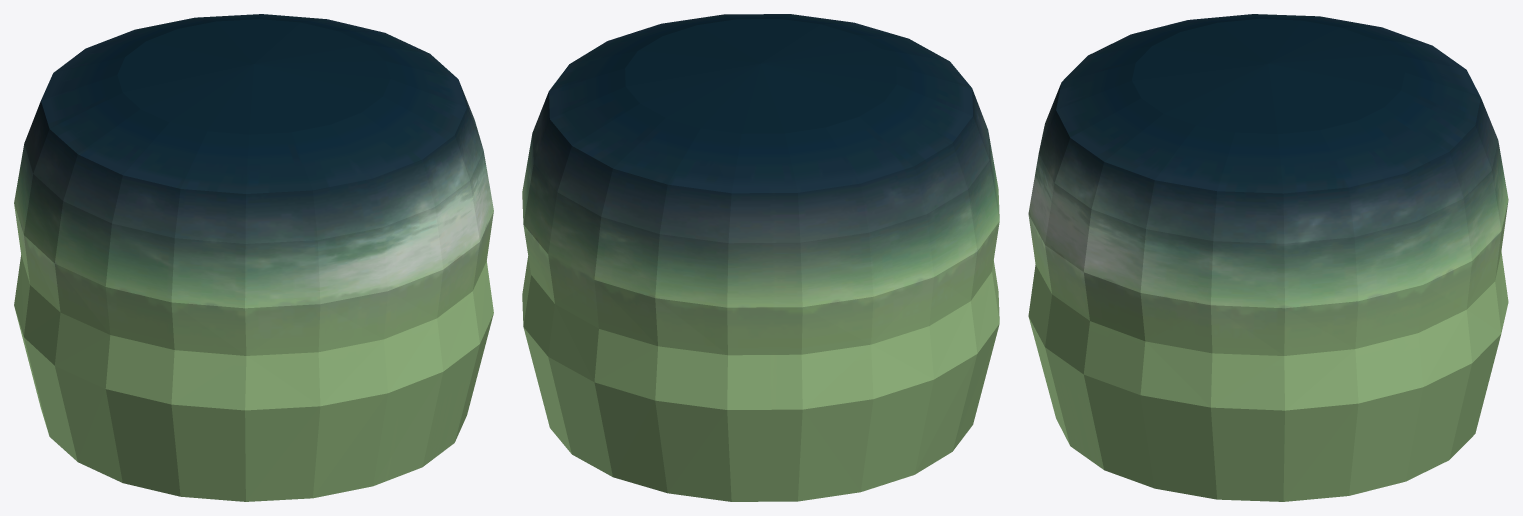
The model's file is C4M2SKY.obj.
3 views of the same model, side by side, from view 1: azimuth 30°, elevation 25°; view 2: azimuth 150°, elevation 25°; view 3: azimuth 270°, elevation 25° (orthographic).
Parts seen in each view (by area): view 1: Node 0; view 2: Node 0; view 3: Node 0.
Boxes of the visible parts, bbox=[...] form: Node 0: bbox=[14, 14, 493, 501]; Node 0: bbox=[522, 14, 999, 501]; Node 0: bbox=[1028, 14, 1508, 501].
Bounding box in the file's own units: 6.08 × 5.43 × 6.08.
1 material, 1 textured.
